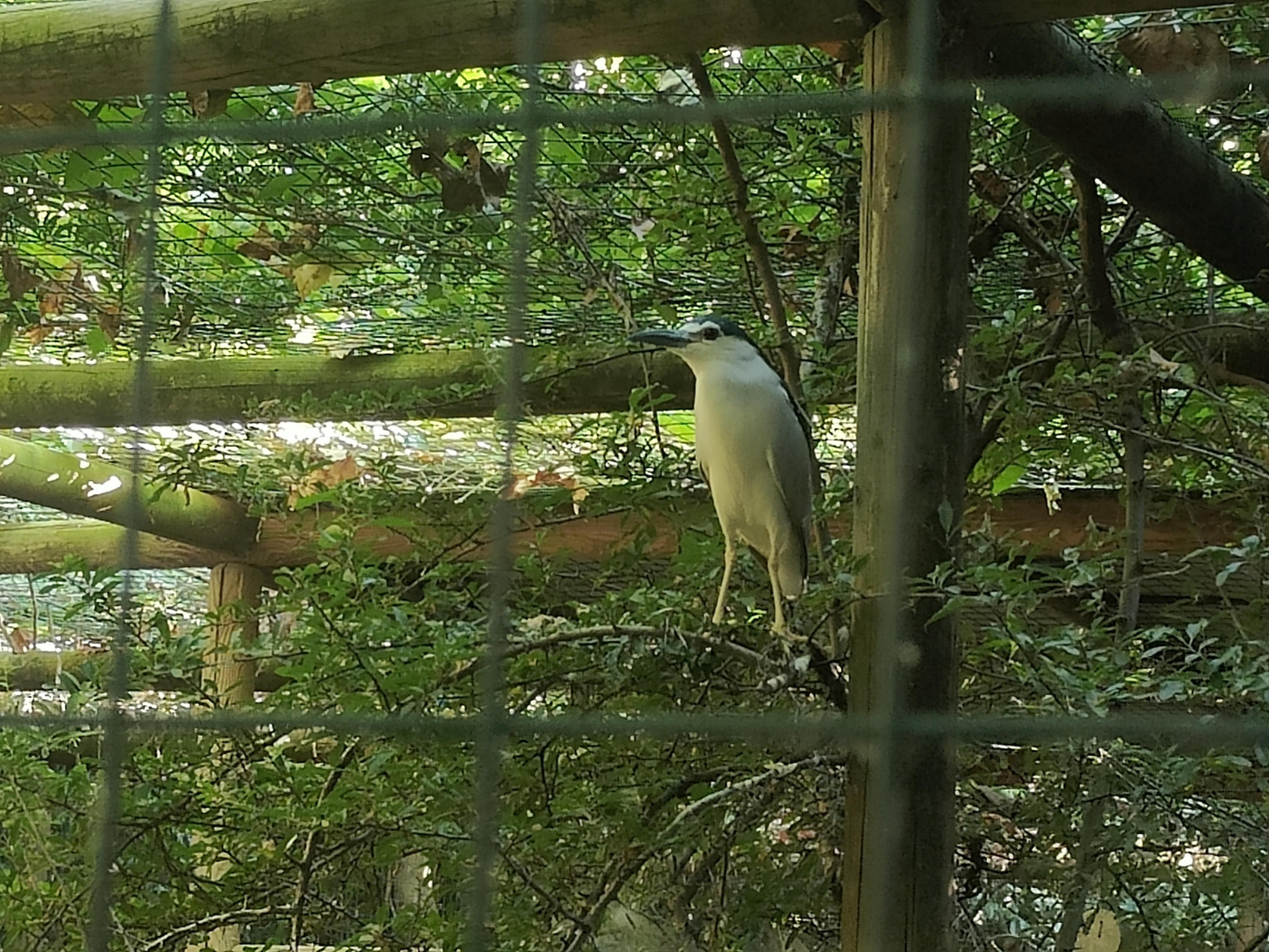apple: (628, 318, 812, 639)
